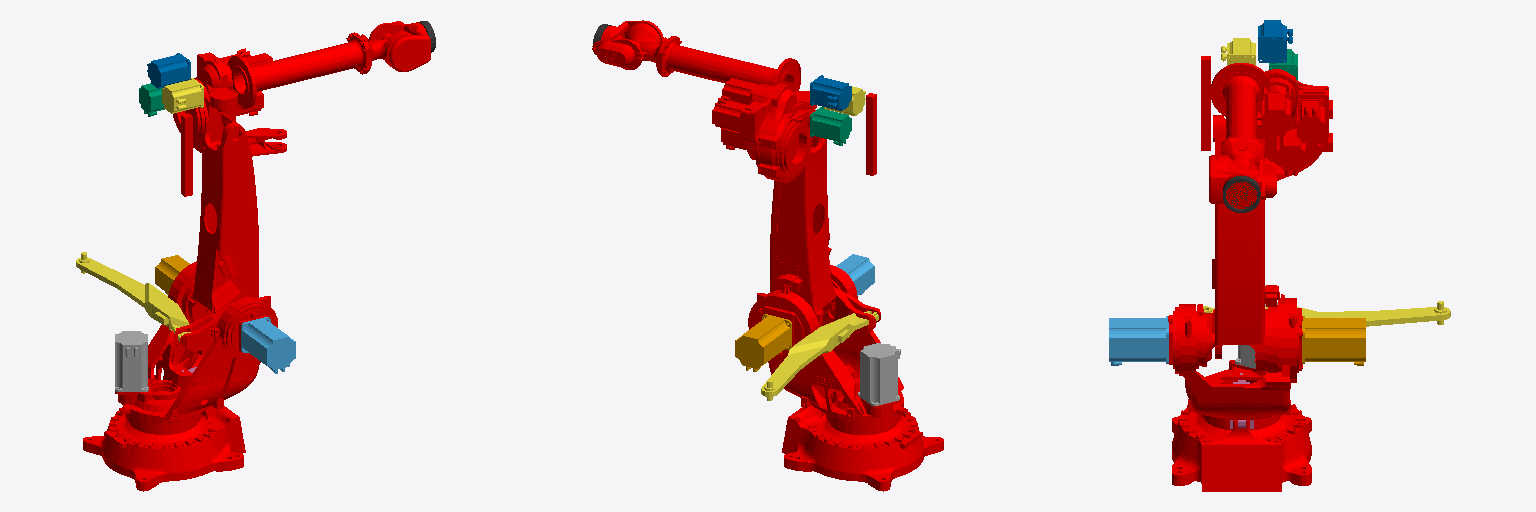
URDF robot description (nj_220_2_7):
<?xml version="1.0" ?>
<!-- =================================================================================== -->
<!-- |    This document was autogenerated by xacro from nj_220_2_7_alone.xacro         | -->
<!-- |    EDITING THIS FILE BY HAND IS NOT RECOMMENDED                                 | -->
<!-- =================================================================================== -->
<robot name="nj_220_2_7">
  <link name="world"/>
  <!-- <xacro:macro name="nj_220_2_7" params="prefix:='' interface:=hardware_interface/PositionJointInterface"> -->
  <!--  195°/s -->
  <link name="base_link">
    <inertial>
      <origin rpy="0 0 0" xyz="0.035817 -0.00001 0.13320"/>
      <mass value="780.97"/>
      <inertia ixx="39.64573032" ixy="0.00269524" ixz="-3.73357627" iyy="48.50586929" iyz="-0.00127807" izz="49.079656"/>
    </inertial>
    <visual>
      <origin rpy="0 0 0" xyz="0 0 0"/>
      <geometry>
        <mesh filename="package://nj_220_2_7_gazebo/meshes/base_link.STL"/>
      </geometry>
      <material name="">
        <color rgba="1 0 0 1"/>
      </material>
    </visual>
    <collision>
      <origin rpy="0 0 0" xyz="0 0 0"/>
      <geometry>
        <mesh filename="package://nj_220_2_7_gazebo/meshes/base_link.STL"/>
      </geometry>
    </collision>
  </link>
  <link name="link_1">
    <inertial>
      <origin rpy="0 0 0" xyz="0.31397 0.02536 0.37802"/>
      <mass value="120.57"/>
      <inertia ixx="96.14944607" ixy="2.82831578" ixz="59.92048931" iyy="132.52767347" iyz="3.87136939" izz="76.40305744"/>
    </inertial>
    <visual>
      <origin rpy="0 0 0" xyz="0 0 0"/>
      <geometry>
        <mesh filename="package://nj_220_2_7_gazebo/meshes/link_1.STL"/>
      </geometry>
      <material name="">
        <color rgba="1 0 0 1"/>
      </material>
    </visual>
    <collision>
      <origin rpy="0 0 0" xyz="0 0 0"/>
      <geometry>
        <mesh filename="package://nj_220_2_7_gazebo/meshes/link_1.STL"/>
      </geometry>
    </collision>
  </link>
  <joint name="joint_1" type="revolute">
    <origin rpy="0 0 0" xyz="0 0 0.331"/>
    <parent link="base_link"/>
    <child link="link_1"/>
    <axis xyz="0 0 1"/>
    <limit effort="100000" lower="-1.570796327" upper="1.570796327" velocity="1.74533"/>
  </joint>
  <link name="link_2">
    <inertial>
      <origin rpy="0 0 0" xyz="0.018416 -0.00326 0.51384"/>
      <mass value="120.34"/>
      <inertia ixx="53.73638778" ixy="-0.00887173" ixz="1.24711967" iyy="53.48705119" iyz="-0.66793611" izz="2.25971599"/>
    </inertial>
    <visual>
      <origin rpy="0 0 0" xyz="0 0 0"/>
      <geometry>
        <mesh filename="package://nj_220_2_7_gazebo/meshes/link_2.STL"/>
      </geometry>
      <material name="">
        <color rgba="1 0 0 1"/>
      </material>
    </visual>
    <collision>
      <origin rpy="0 0 0" xyz="0 0 0"/>
      <geometry>
        <mesh filename="package://nj_220_2_7_gazebo/meshes/link_2.STL"/>
      </geometry>
    </collision>
  </link>
  <joint name="joint_2" type="revolute">
    <origin rpy="0 0 0" xyz="0.4 0 0.499"/>
    <parent link="link_1"/>
    <child link="link_2"/>
    <axis xyz="0 1 0"/>
    <limit effort="100000" lower="-1.308996939" upper="1.658062789" velocity="1.5708"/>
  </joint>
  <link name="link_3">
    <inertial>
      <origin rpy="0 0 0" xyz="-0.04239 0.01939 0.2104"/>
      <mass value="303.81"/>
      <inertia ixx="24.45402173" ixy="-0.58037596" ixz="-2.46563321" iyy="20.71802091" iyz="2.40454026" izz="9.01610712"/>
    </inertial>
    <visual>
      <origin rpy="0 0 0" xyz="0 0 0"/>
      <geometry>
        <mesh filename="package://nj_220_2_7_gazebo/meshes/link_3.STL"/>
      </geometry>
      <material name="">
        <color rgba="1 0 0 1"/>
      </material>
    </visual>
    <collision>
      <origin rpy="0 0 0" xyz="0 0 0"/>
      <geometry>
        <mesh filename="package://nj_220_2_7_gazebo/meshes/link_3.STL"/>
      </geometry>
    </collision>
  </link>
  <joint name="joint_3m" type="revolute">
    <origin rpy="0 0 0" xyz="0 0 0"/>
    <parent link="link_3_virtual"/>
    <child link="link_3"/>
    <axis xyz="0 1 0"/>
    <limit effort="0" lower="-6.2831853" upper="6.2831853" velocity="0"/>
    <mimic joint="joint_3" multiplier="-1" offset="0"/>
  </joint>
  <link name="link_4">
    <inertial>
      <origin rpy="0 0 0" xyz="0.71228 -0.02567 -0.00003"/>
      <mass value="90.963"/>
      <inertia ixx="0.68929228290" ixy="-2.39235486446" ixz="-0.00192589885" iyy="58.11987131958" iyz="-0.00017654018" izz="58.29818388998"/>
    </inertial>
    <visual>
      <origin rpy="0 0 0" xyz="0 0 0"/>
      <geometry>
        <mesh filename="package://nj_220_2_7_gazebo/meshes/link_4.STL"/>
      </geometry>
      <material name="">
        <color rgba="1 0 0 1"/>
      </material>
    </visual>
    <collision>
      <origin rpy="0 0 0" xyz="0 0 0"/>
      <geometry>
        <mesh filename="package://nj_220_2_7_gazebo/meshes/link_4.STL"/>
      </geometry>
    </collision>
  </link>
  <joint name="joint_4" type="revolute">
    <origin rpy="0 0 0" xyz="0.105 0 0.25"/>
    <parent link="link_3"/>
    <child link="link_4"/>
    <axis xyz="1 0 0"/>
    <limit effort="1230" lower="-6.2831853" upper="6.2831853" velocity="2.26893"/>
  </joint>
  <link name="link_5">
    <inertial>
      <origin rpy="0 0 0" xyz="0.09375 0.01506 0.00002"/>
      <mass value="50.615"/>
      <inertia ixx="0.67974396" ixy="0.04508972" ixz="0.00009980" iyy="0.83229961" iyz="0.00011851" izz="1.32231171"/>
    </inertial>
    <visual>
      <origin rpy="0 0 0" xyz="0 0 0"/>
      <geometry>
        <mesh filename="package://nj_220_2_7_gazebo/meshes/link_5.STL"/>
      </geometry>
      <material name="">
        <color rgba="1 0 0 1"/>
      </material>
    </visual>
    <collision>
      <origin rpy="0 0 0" xyz="0 0 0"/>
      <geometry>
        <mesh filename="package://nj_220_2_7_gazebo/meshes/link_5.STL"/>
      </geometry>
    </collision>
  </link>
  <joint name="joint_5" type="revolute">
    <origin rpy="0 0 0" xyz="1.02033 0 0"/>
    <parent link="link_4"/>
    <child link="link_5"/>
    <axis xyz="0 1 0"/>
    <limit effort="1230" lower="-2.1816" upper="2.1816" velocity="2.26893"/>
  </joint>
  <link name="link_6">
    <inertial>
      <origin rpy="0 0 0" xyz="0.0058594 -0.00060952 -5.99E-05"/>
      <mass value="5.3437"/>
      <inertia ixx="0.02913604" ixy="-0.00000822" ixz="-0.00000086" iyy="0.01533002" iyz="0.00000585" izz="0.01518874"/>
    </inertial>
    <visual>
      <origin rpy="0 0 0" xyz="0 0 0"/>
      <geometry>
        <mesh filename="package://nj_220_2_7_gazebo/meshes/link_6.STL"/>
      </geometry>
      <material name="">
        <color rgba="0.25098 0.25098 0.25098 1"/>
      </material>
    </visual>
    <collision>
      <origin rpy="0 0 0" xyz="0 0 0"/>
      <geometry>
        <mesh filename="package://nj_220_2_7_gazebo/meshes/link_6.STL"/>
      </geometry>
    </collision>
  </link>
  <joint name="joint_6" type="revolute">
    <origin rpy="0 0 0" xyz="0.2085 0 0"/>
    <parent link="link_5"/>
    <child link="link_6"/>
    <axis xyz="1 0 0"/>
    <limit effort="712" lower="-6.2831853" upper="6.2831853" velocity="3.40339"/>
  </joint>
  <link name="link_3_virtual">
    <inertial>
      <origin rpy="0 0 0" xyz="0 0 0"/>
      <mass value="0.01"/>
      <inertia ixx="0.00001" ixy="0.00000" ixz="0.00000" iyy="0.00001" iyz="0.00000" izz="0.00000"/>
    </inertial>
  </link>
  <joint name="joint_2m" type="revolute">
    <origin rpy="0 0 0" xyz="0 0 1.175"/>
    <parent link="link_2"/>
    <child link="link_3_virtual"/>
    <axis xyz="0 1 0"/>
    <mimic joint="joint_2" multiplier="-1" offset="0"/>
    <limit effort="100000" lower="-6.2831853" upper="6.2831853" velocity="3.40339"/>
  </joint>
  <link name="link_2_1">
    <inertial>
      <origin rpy="0 0 0" xyz="0.14943 -0.0063786 0.023924"/>
      <mass value="41.905"/>
      <inertia ixx="0.18520588" ixy="-0.07064049" ixz="0.17218606" iyy="1.70899486" iyz="-0.00657138" izz="1.77577899"/>
    </inertial>
    <visual>
      <origin rpy="0 0 0" xyz="0 0 0"/>
      <geometry>
        <mesh filename="package://nj_220_2_7_gazebo/meshes/link_2_1.STL"/>
      </geometry>
      <material name="">
        <color rgba="1 0 0 1"/>
      </material>
    </visual>
    <collision>
      <origin rpy="0 0 0" xyz="0 0 0"/>
      <geometry>
        <mesh filename="package://nj_220_2_7_gazebo/meshes/link_2_1.STL"/>
      </geometry>
    </collision>
  </link>
  <joint name="joint_3" type="revolute">
    <origin rpy="1.570796327 0.087266 3.141592654" xyz="0.400 -0.1945 0.499"/>
    <parent link="link_1"/>
    <child link="link_2_1"/>
    <axis xyz="0 0 -1"/>
    <limit effort="100000" lower="-4.468042885" upper="0.174532925" velocity="1.91986"/>
  </joint>
  <link name="link_2_2_virtual">
    <inertial>
      <origin rpy="0 0 0" xyz="0 0 0"/>
      <mass value="0.01"/>
      <inertia ixx="0.00001" ixy="0.00000" ixz="0.00000" iyy="0.00001" iyz="0.00000" izz="0.00000"/>
    </inertial>
  </link>
  <joint name="joint_2_1" type="continuous">
    <origin rpy="0 0 0.087266" xyz="0.350 0 0.015"/>
    <parent link="link_2_1"/>
    <child link="link_2_2_virtual"/>
    <axis xyz="0 0 1"/>
    <mimic joint="joint_3" multiplier="1" offset="0"/>
  </joint>
  <link name="link_2_2">
    <inertial>
      <origin rpy="0 0 0" xyz="0.06443 0.51885 0.01485"/>
      <mass value="60.72"/>
      <inertia ixx="21.93937071" ixy="1.89190480" ixz="0.05733724" iyy="0.41028863" iyz="0.47064670" izz="22.27041146"/>
    </inertial>
    <visual>
      <origin rpy="0 0 0" xyz="0 0 0"/>
      <geometry>
        <mesh filename="package://nj_220_2_7_gazebo/meshes/link_2_2.STL"/>
      </geometry>
    </visual>
    <collision>
      <origin rpy="0 0 0" xyz="0 0 0"/>
      <geometry>
        <mesh filename="package://nj_220_2_7_gazebo/meshes/link_2_2.STL"/>
      </geometry>
    </collision>
  </link>
  <joint name="joint_2_2" type="continuous">
    <origin rpy="0 0 0" xyz="0.0 0.0 0.0"/>
    <parent link="link_2_2_virtual"/>
    <child link="link_2_2"/>
    <axis xyz="0 0 1"/>
    <mimic joint="joint_2" multiplier="1" offset="0"/>
  </joint>
  <link name="link_2_3">
    <inertial>
      <origin rpy="0 0 0" xyz="0 0 0"/>
      <mass value="0.01"/>
      <inertia ixx="0.00001" ixy="0.00000" ixz="0.00000" iyy="0.00001" iyz="0.00000" izz="0.00000"/>
    </inertial>
    <visual>
      <origin rpy="0 0 0" xyz="0 0 0"/>
      <geometry>
        <box size="0.05 0.05 0.5"/>
      </geometry>
      <material name="">
        <color rgba="1 0 0 1"/>
      </material>
    </visual>
  </link>
  <joint name="joint_2_3" type="revolute">
    <origin rpy="1.570796327 0 3.141592654" xyz="0.0 1.175 0.0"/>
    <parent link="link_2_2"/>
    <child link="link_2_3"/>
    <axis xyz="0 0 1"/>
    <mimic joint="joint_2" multiplier="1" offset="0"/>
    <limit effort="712" lower="-6.2831853" upper="6.2831853" velocity="3.40339"/>
  </joint>
  <gazebo>
    <joint name="closing_joint" type="revolute">
      <parent>link_3</parent>
      <child>link_2_3</child>
      <pose relative_to="link_3"> -0.34867, -0.1795, 0.0305, 0, 0, 0</pose>
      <axis>
        <xyz>0 1 0</xyz>
      </axis>
    </joint>
  </gazebo>
  <!-- <joint name="${prefix}joint_2_3" type="continuous">
    <origin xyz="0.0 1.175 0.0" rpy="1.570796327 0 3.141592654" />
    <parent link="${prefix}link_2_2" />
    <child link="${prefix}link_2_3" />
    <axis xyz="0 0 1" />
    <mimic joint="${prefix}joint_2" multiplier="1" offset="0"/>
  </joint>

  <gazebo>
    <joint name="${prefix}closing_joint" type="revolute">
      <parent>${prefix}link_3</parent>
      <child>${prefix}link_2_3</child>
      <pose relative_to="${prefix}link_3"> -0.34867, -0.1795, 0.0305, 0, 0, 0</pose>
      <axis>
        <xyz>0 1 0</xyz>
      </axis>
    </joint>
  </gazebo> -->
  <link name="flange">
    <inertial>
      <origin rpy="0 0 0" xyz="0 0 0"/>
      <mass value="0.01"/>
      <inertia ixx="0.00001" ixy="0.00000" ixz="0.00000" iyy="0.00001" iyz="0.00000" izz="0.00000"/>
    </inertial>
  </link>
  <joint name="link_6_to_flange" type="fixed">
    <origin rpy="0 0 0" xyz="0 0 -0.0395"/>
    <parent link="link_6"/>
    <child link="flange"/>
    <axis xyz="0 0 0"/>
  </joint>
  <!-- Stroke Ends -->
  <link name="external_piece">
    <inertial>
      <origin rpy="0 0 0" xyz="0.25149 0 0.08305"/>
      <mass value="11.17"/>
      <inertia ixx="0.12505051" ixy="0" ixz="0.20615167" iyy="0.86139689" iyz="0" izz="0.75193919"/>
    </inertial>
    <visual>
      <origin rpy="0 0 0" xyz="0 0 0"/>
      <geometry>
        <mesh filename="package://nj_220_2_7_gazebo/meshes/external_part.STL"/>
      </geometry>
    </visual>
    <collision>
      <origin rpy="0 0 0" xyz="0 0 0"/>
      <geometry>
        <mesh filename="package://nj_220_2_7_gazebo/meshes/external_part.STL"/>
      </geometry>
    </collision>
  </link>
  <joint name="joint_external_piece" type="fixed">
    <origin rpy="0 0 0" xyz="0 0 0"/>
    <parent link="link_1"/>
    <child link="external_piece"/>
    <axis xyz="0 0 0"/>
  </joint>
  <link name="motor_1">
    <inertial>
      <origin rpy="0 0 0" xyz="0 0.00059 -0.13134"/>
      <mass value="74.18"/>
      <inertia ixx="2.03862179" ixy="0.00000294" ixz="0.00001194" iyy="2.03393681" iyz="-0.01109897" izz="0.37378121"/>
    </inertial>
    <visual>
      <origin rpy="0 0 0" xyz="0 0 0"/>
      <geometry>
        <mesh filename="package://nj_220_2_7_gazebo/meshes/motor_80.STL"/>
      </geometry>
    </visual>
    <collision>
      <origin rpy="0 0 0" xyz="0 0 0"/>
      <geometry>
        <mesh filename="package://nj_220_2_7_gazebo/meshes/motor_80.STL"/>
      </geometry>
    </collision>
  </link>
  <joint name="joint_motor_1" type="fixed">
    <origin rpy="0 0 4.194026193" xyz="-0.1567 0.0905 0.12075"/>
    <parent link="link_1"/>
    <child link="motor_1"/>
    <axis xyz="0 0 0"/>
  </joint>
  <link name="motor_2">
    <inertial>
      <origin rpy="0 0 0" xyz="0 0.00055 -0.14385"/>
      <mass value="80.26"/>
      <inertia ixx="2.5764983" ixy="0.00000380" ixz="0.01312758" iyy="2.49873445" iyz="-0.0000105" izz="0.40399789"/>
    </inertial>
    <visual>
      <origin rpy="0 0 0" xyz="0 0 0"/>
      <geometry>
        <mesh filename="package://nj_220_2_7_gazebo/meshes/motor_90.STL"/>
      </geometry>
    </visual>
    <collision>
      <origin rpy="0 0 0" xyz="0 0 0"/>
      <geometry>
        <mesh filename="package://nj_220_2_7_gazebo/meshes/motor_90.STL"/>
      </geometry>
    </collision>
  </link>
  <joint name="joint_motor_2" type="fixed">
    <origin rpy="-1.570796327 1.570796327 0" xyz="0.400 0.2955 0.499"/>
    <parent link="link_1"/>
    <child link="motor_2"/>
    <axis xyz="0 0 0"/>
  </joint>
  <link name="motor_3">
    <inertial>
      <origin rpy="0 0 0" xyz="0 0.00059 -0.13134"/>
      <mass value="74.18"/>
      <inertia ixx="2.03862179" ixy="0.00000294" ixz="0.00001194" iyy="2.03393681" iyz="-0.01109897" izz="0.37378121"/>
    </inertial>
    <visual>
      <origin rpy="0 0 0" xyz="0 0 0"/>
      <geometry>
        <mesh filename="package://nj_220_2_7_gazebo/meshes/motor_80.STL"/>
      </geometry>
    </visual>
    <collision>
      <origin rpy="0 0 0" xyz="0 0 0"/>
      <geometry>
        <mesh filename="package://nj_220_2_7_gazebo/meshes/motor_80.STL"/>
      </geometry>
    </collision>
  </link>
  <joint name="joint_motor_3" type="fixed">
    <origin rpy="1.570796327 1.570796327 0" xyz="0.400 -0.358 0.499"/>
    <parent link="link_1"/>
    <child link="motor_3"/>
    <axis xyz="0 0 0"/>
  </joint>
  <link name="motor_4">
    <inertial>
      <origin rpy="0 0 0" xyz="0.00125 0 -0.0852"/>
      <mass value="28"/>
      <inertia ixx="0.33783188" ixy="-0.00000254" ixz="-0.00532880" iyy="0.34073438" iyz="0.00000366" izz="0.08086422"/>
    </inertial>
    <visual>
      <origin rpy="0 0 0" xyz="0 0 0"/>
      <geometry>
        <mesh filename="package://nj_220_2_7_gazebo/meshes/motor_50.STL"/>
      </geometry>
    </visual>
    <collision>
      <origin rpy="0 0 0" xyz="0 0 0"/>
      <geometry>
        <mesh filename="package://nj_220_2_7_gazebo/meshes/motor_50.STL"/>
      </geometry>
    </collision>
  </link>
  <joint name="joint_motor_4" type="fixed">
    <origin rpy="3.141592654 1.570796327 0" xyz="-0.200 0.21052 0.175"/>
    <parent link="link_3"/>
    <child link="motor_4"/>
    <axis xyz="0 -1 0"/>
  </joint>
  <link name="motor_5">
    <inertial>
      <origin rpy="0 0 0" xyz="0.00125 0 -0.0852"/>
      <mass value="28"/>
      <inertia ixx="0.33783188" ixy="-0.00000254" ixz="-0.00532880" iyy="0.34073438" iyz="0.00000366" izz="0.08086422"/>
    </inertial>
    <visual>
      <origin rpy="0 0 0" xyz="0 0 0"/>
      <geometry>
        <mesh filename="package://nj_220_2_7_gazebo/meshes/motor_50.STL"/>
      </geometry>
    </visual>
    <collision>
      <origin rpy="0 0 0" xyz="0 0 0"/>
      <geometry>
        <mesh filename="package://nj_220_2_7_gazebo/meshes/motor_50.STL"/>
      </geometry>
    </collision>
  </link>
  <joint name="joint_motor_5" type="fixed">
    <origin rpy="1.570796327 0 -1.570796327" xyz="-0.1675 0 0.250"/>
    <parent link="link_3"/>
    <child link="motor_5"/>
    <axis xyz="0 -1 0"/>
  </joint>
  <link name="motor_6">
    <inertial>
      <origin rpy="0 0 0" xyz="0.00125 0 -0.0852"/>
      <mass value="28"/>
      <inertia ixx="0.33783188" ixy="-0.00000254" ixz="-0.00532880" iyy="0.34073438" iyz="0.00000366" izz="0.08086422"/>
    </inertial>
    <visual>
      <origin rpy="0 0 0" xyz="0 0 0"/>
      <geometry>
        <mesh filename="package://nj_220_2_7_gazebo/meshes/motor_50.STL"/>
      </geometry>
    </visual>
    <collision>
      <origin rpy="0 0 0" xyz="0 0 0"/>
      <geometry>
        <mesh filename="package://nj_220_2_7_gazebo/meshes/motor_50.STL"/>
      </geometry>
    </collision>
  </link>
  <joint name="joint_motor_6" type="fixed">
    <origin rpy="-1.570796327 0 1.570796327" xyz="-0.1675 0.155 0.34577"/>
    <parent link="link_3"/>
    <child link="motor_6"/>
    <axis xyz="0 -1 0"/>
  </joint>
  <!-- End Stroke End -->
  <transmission name="tran_1">
    <type>transmission_interface/SimpleTransmission</type>
    <joint name="joint_1">
      <hardwareInterface>hardware_interface/EffortJointInterface</hardwareInterface>
    </joint>
    <actuator name="motor_1">
      <mechanicalReduction>1</mechanicalReduction>
    </actuator>
  </transmission>
  <transmission name="tran_2">
    <type>transmission_interface/SimpleTransmission</type>
    <joint name="joint_2">
      <hardwareInterface>hardware_interface/EffortJointInterface</hardwareInterface>
    </joint>
    <actuator name="motor_2">
      <mechanicalReduction>1</mechanicalReduction>
    </actuator>
  </transmission>
  <transmission name="tran_3">
    <type>transmission_interface/SimpleTransmission</type>
    <joint name="joint_3">
      <hardwareInterface>hardware_interface/EffortJointInterface</hardwareInterface>
    </joint>
    <actuator name="motor_3">
      <mechanicalReduction>1</mechanicalReduction>
    </actuator>
  </transmission>
  <transmission name="tran_4">
    <type>transmission_interface/SimpleTransmission</type>
    <joint name="joint_4">
      <hardwareInterface>hardware_interface/EffortJointInterface</hardwareInterface>
    </joint>
    <actuator name="motor_4">
      <mechanicalReduction>1</mechanicalReduction>
    </actuator>
  </transmission>
  <transmission name="tran_5">
    <type>transmission_interface/SimpleTransmission</type>
    <joint name="joint_5">
      <hardwareInterface>hardware_interface/EffortJointInterface</hardwareInterface>
    </joint>
    <actuator name="motor_5">
      <mechanicalReduction>1</mechanicalReduction>
    </actuator>
  </transmission>
  <transmission name="tran_6">
    <type>transmission_interface/SimpleTransmission</type>
    <joint name="joint_6">
      <hardwareInterface>hardware_interface/EffortJointInterface</hardwareInterface>
    </joint>
    <actuator name="motor_6">
      <mechanicalReduction>1</mechanicalReduction>
    </actuator>
  </transmission>
  <gazebo>
    <plugin filename="libgazebo_ros_control.so" name="gazebo_ros_control">
      <robotNamespace>/nj_220_2_7</robotNamespace>
      <robotSimType>gazebo_ros_control/DefaultRobotHWSim</robotSimType>
    </plugin>
  </gazebo>
  <gazebo reference="link_6_to_flange">
    <provideFeedback>true</provideFeedback>
    <disableFixedJointLumping>true</disableFixedJointLumping>
    <preserveFixedJoint>true</preserveFixedJoint>
  </gazebo>
  <gazebo>
    <plugin filename="libgazebo_ros_ft_sensor.so" name="ft_sensor">
      <updateRate>1000.0</updateRate>
      <topicName>gripper/wrench</topicName>
      <jointName>link_6_to_flange</jointName>
    </plugin>
  </gazebo>
  <!-- <gazebo reference="nj_220_2_7">
    <gravity>true</gravity>
    <selfCollide>false</selfCollide>
    <material>Gazebo/DarkGrey</material>
  </gazebo> -->
  <gazebo reference="base_link">
    <gravity>true</gravity>
    <selfCollide>0</selfCollide>
    <material>Gazebo/DarkGrey</material>
  </gazebo>
  <gazebo reference="link_1">
    <gravity>true</gravity>
    <selfCollide>0</selfCollide>
    <material>Gazebo/Grey</material>
  </gazebo>
  <gazebo reference="link_2">
    <gravity>true</gravity>
    <selfCollide>0</selfCollide>
    <material>Gazebo/Grey</material>
  </gazebo>
  <gazebo reference="link_2_1">
    <gravity>true</gravity>
    <selfCollide>0</selfCollide>
    <material>Gazebo/Grey</material>
  </gazebo>
  <gazebo reference="link_2_2">
    <gravity>true</gravity>
    <selfCollide>0</selfCollide>
    <material>Gazebo/Grey</material>
  </gazebo>
  <gazebo reference="link_2_3">
    <gravity>true</gravity>
    <selfCollide>0</selfCollide>
    <material>Gazebo/Grey</material>
  </gazebo>
  <gazebo reference="link_3_virtual">
    <gravity>true</gravity>
    <selfCollide>0</selfCollide>
    <material>Gazebo/Grey</material>
  </gazebo>
  <gazebo reference="link_3">
    <gravity>true</gravity>
    <selfCollide>0</selfCollide>
    <material>Gazebo/Grey</material>
  </gazebo>
  <gazebo reference="link_4">
    <gravity>true</gravity>
    <selfCollide>0</selfCollide>
    <material>Gazebo/Grey</material>
  </gazebo>
  <gazebo reference="link_5">
    <gravity>true</gravity>
    <selfCollide>0</selfCollide>
    <material>Gazebo/DarkGrey</material>
  </gazebo>
  <gazebo reference="link_6">
    <gravity>true</gravity>
    <selfCollide>0</selfCollide>
    <material>Gazebo/Black</material>
  </gazebo>
  <joint name="world_to_base_link" type="fixed">
    <origin rpy="0 0 0" xyz="0 0 0"/>
    <parent link="world"/>
    <child link="base_link"/>
  </joint>
</robot>

--- Render facts (derived) ---
3 views of the same robot in one strip: view 1: azimuth 30°, elevation 25°; view 2: azimuth 150°, elevation 25°; view 3: azimuth 270°, elevation 25° (orthographic).
Robot: nj_220_2_7 — 21 links, 20 joints (9 revolute, 2 continuous, 9 fixed); root link world; default pose: all joints at 0.
Visible links, largest first — view 1: link_1, link_2, base_link, link_4, link_3, link_2_2, motor_3, motor_1, link_5, link_2_1, motor_5, motor_6 (+3 smaller); view 2: base_link, link_2, link_1, link_3, link_4, link_2_2, motor_1, motor_2, link_5, motor_4, motor_6, link_2_1 (+2 smaller); view 3: base_link, link_1, link_2, link_3, link_4, motor_2, motor_3, link_5, link_2_2, motor_6, link_2_3, motor_5 (+2 smaller).
Link boxes in pixels (x1,y1,x2,y2): link_1: (115,261,277,422); link_2: (188,112,258,322); base_link: (83,391,245,491); link_4: (227,32,411,108); link_3: (173,48,286,156); link_2_2: (76,252,190,341); motor_3: (241,317,295,373); motor_1: (115,331,148,391); link_5: (369,21,430,71); link_2_1: (174,302,232,355); motor_5: (162,78,203,113); motor_6: (147,53,190,88); base_link: (782,405,943,491); link_2: (770,110,835,326); link_1: (748,265,907,422); link_3: (712,78,816,182); link_4: (625,23,800,91); link_2_2: (761,311,878,400); motor_1: (858,343,900,405); motor_2: (735,314,791,371); link_5: (592,20,663,69); motor_4: (810,107,851,145); motor_6: (810,75,851,110); link_2_1: (822,286,880,332); base_link: (1172,404,1311,491); link_1: (1168,294,1302,419); link_2: (1212,115,1279,373); link_3: (1257,69,1332,180); link_4: (1210,63,1271,175); motor_2: (1302,316,1365,365); motor_3: (1109,316,1168,365); link_5: (1209,155,1276,208); link_2_2: (1203,301,1450,326); motor_6: (1258,20,1292,62); link_2_3: (1201,56,1210,150); motor_5: (1221,38,1255,65).
Bounding box of the posed robot: 2.1 × 1.71 × 2.42 m (x, y, z).
16 mesh visuals loaded from 13 distinct referenced files (13 binary STL).
